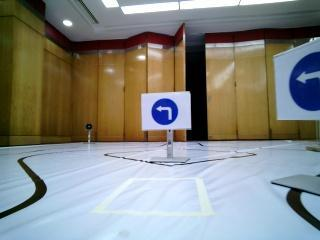left: (145, 91, 184, 124)
